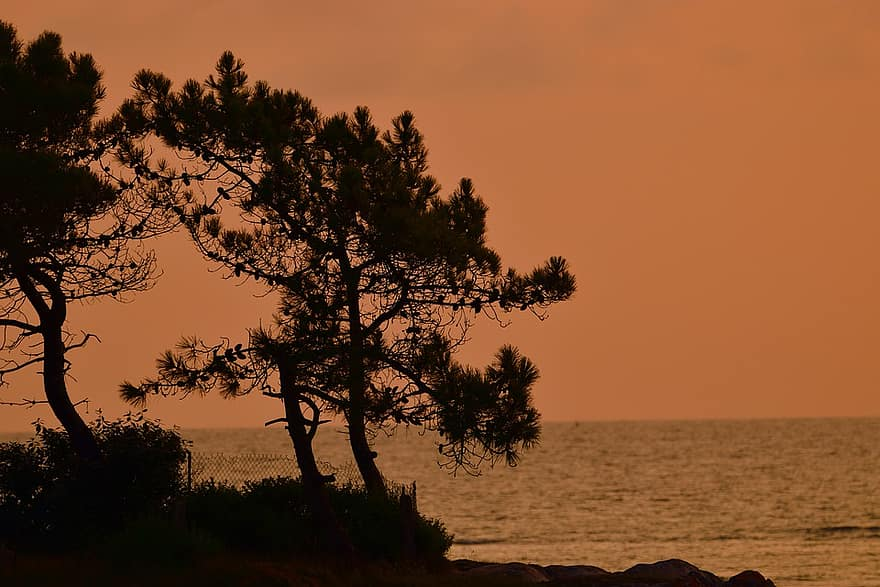plants: (182, 81, 572, 495), (3, 25, 174, 512)
